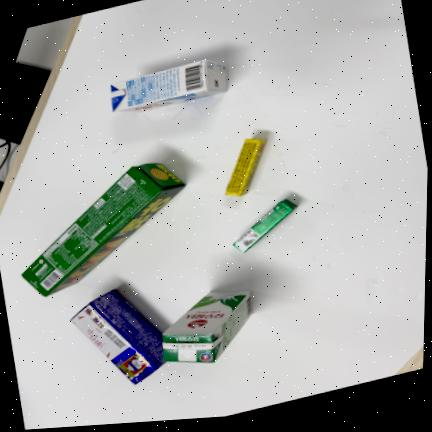cracker_ace: (70, 289, 167, 384)
cracker_vege: (22, 162, 185, 296)
gum_green: (233, 199, 297, 252)
gum_yellow: (226, 139, 267, 196)
milk_green: (163, 290, 253, 364)
